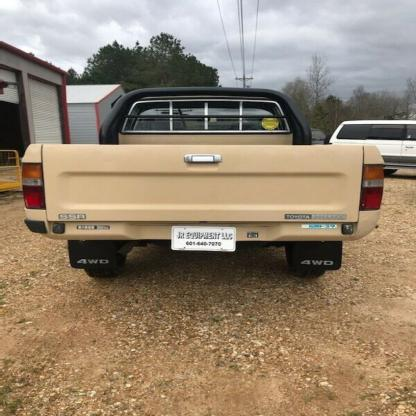light_vehicle: (20, 76, 392, 288)
